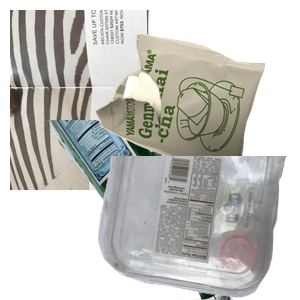glass: (37, 120, 262, 300)
paper: (10, 10, 250, 190)
plastic: (95, 156, 300, 300)
trash: (93, 31, 300, 205)
